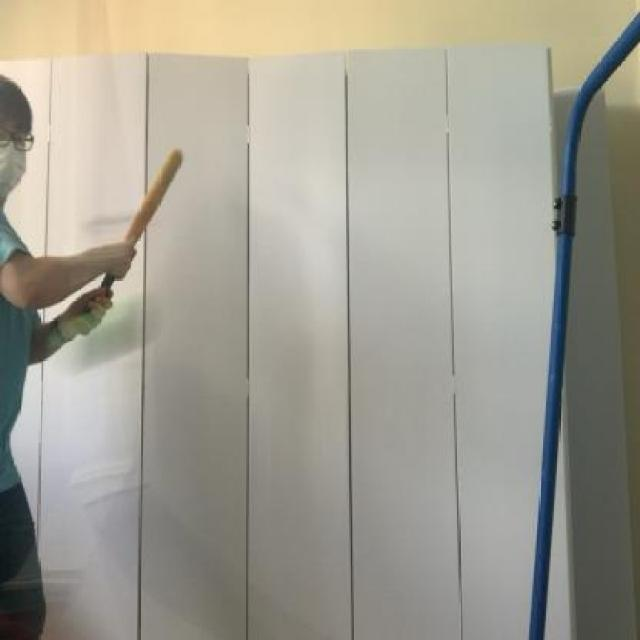baseball: (58, 273, 165, 381)
